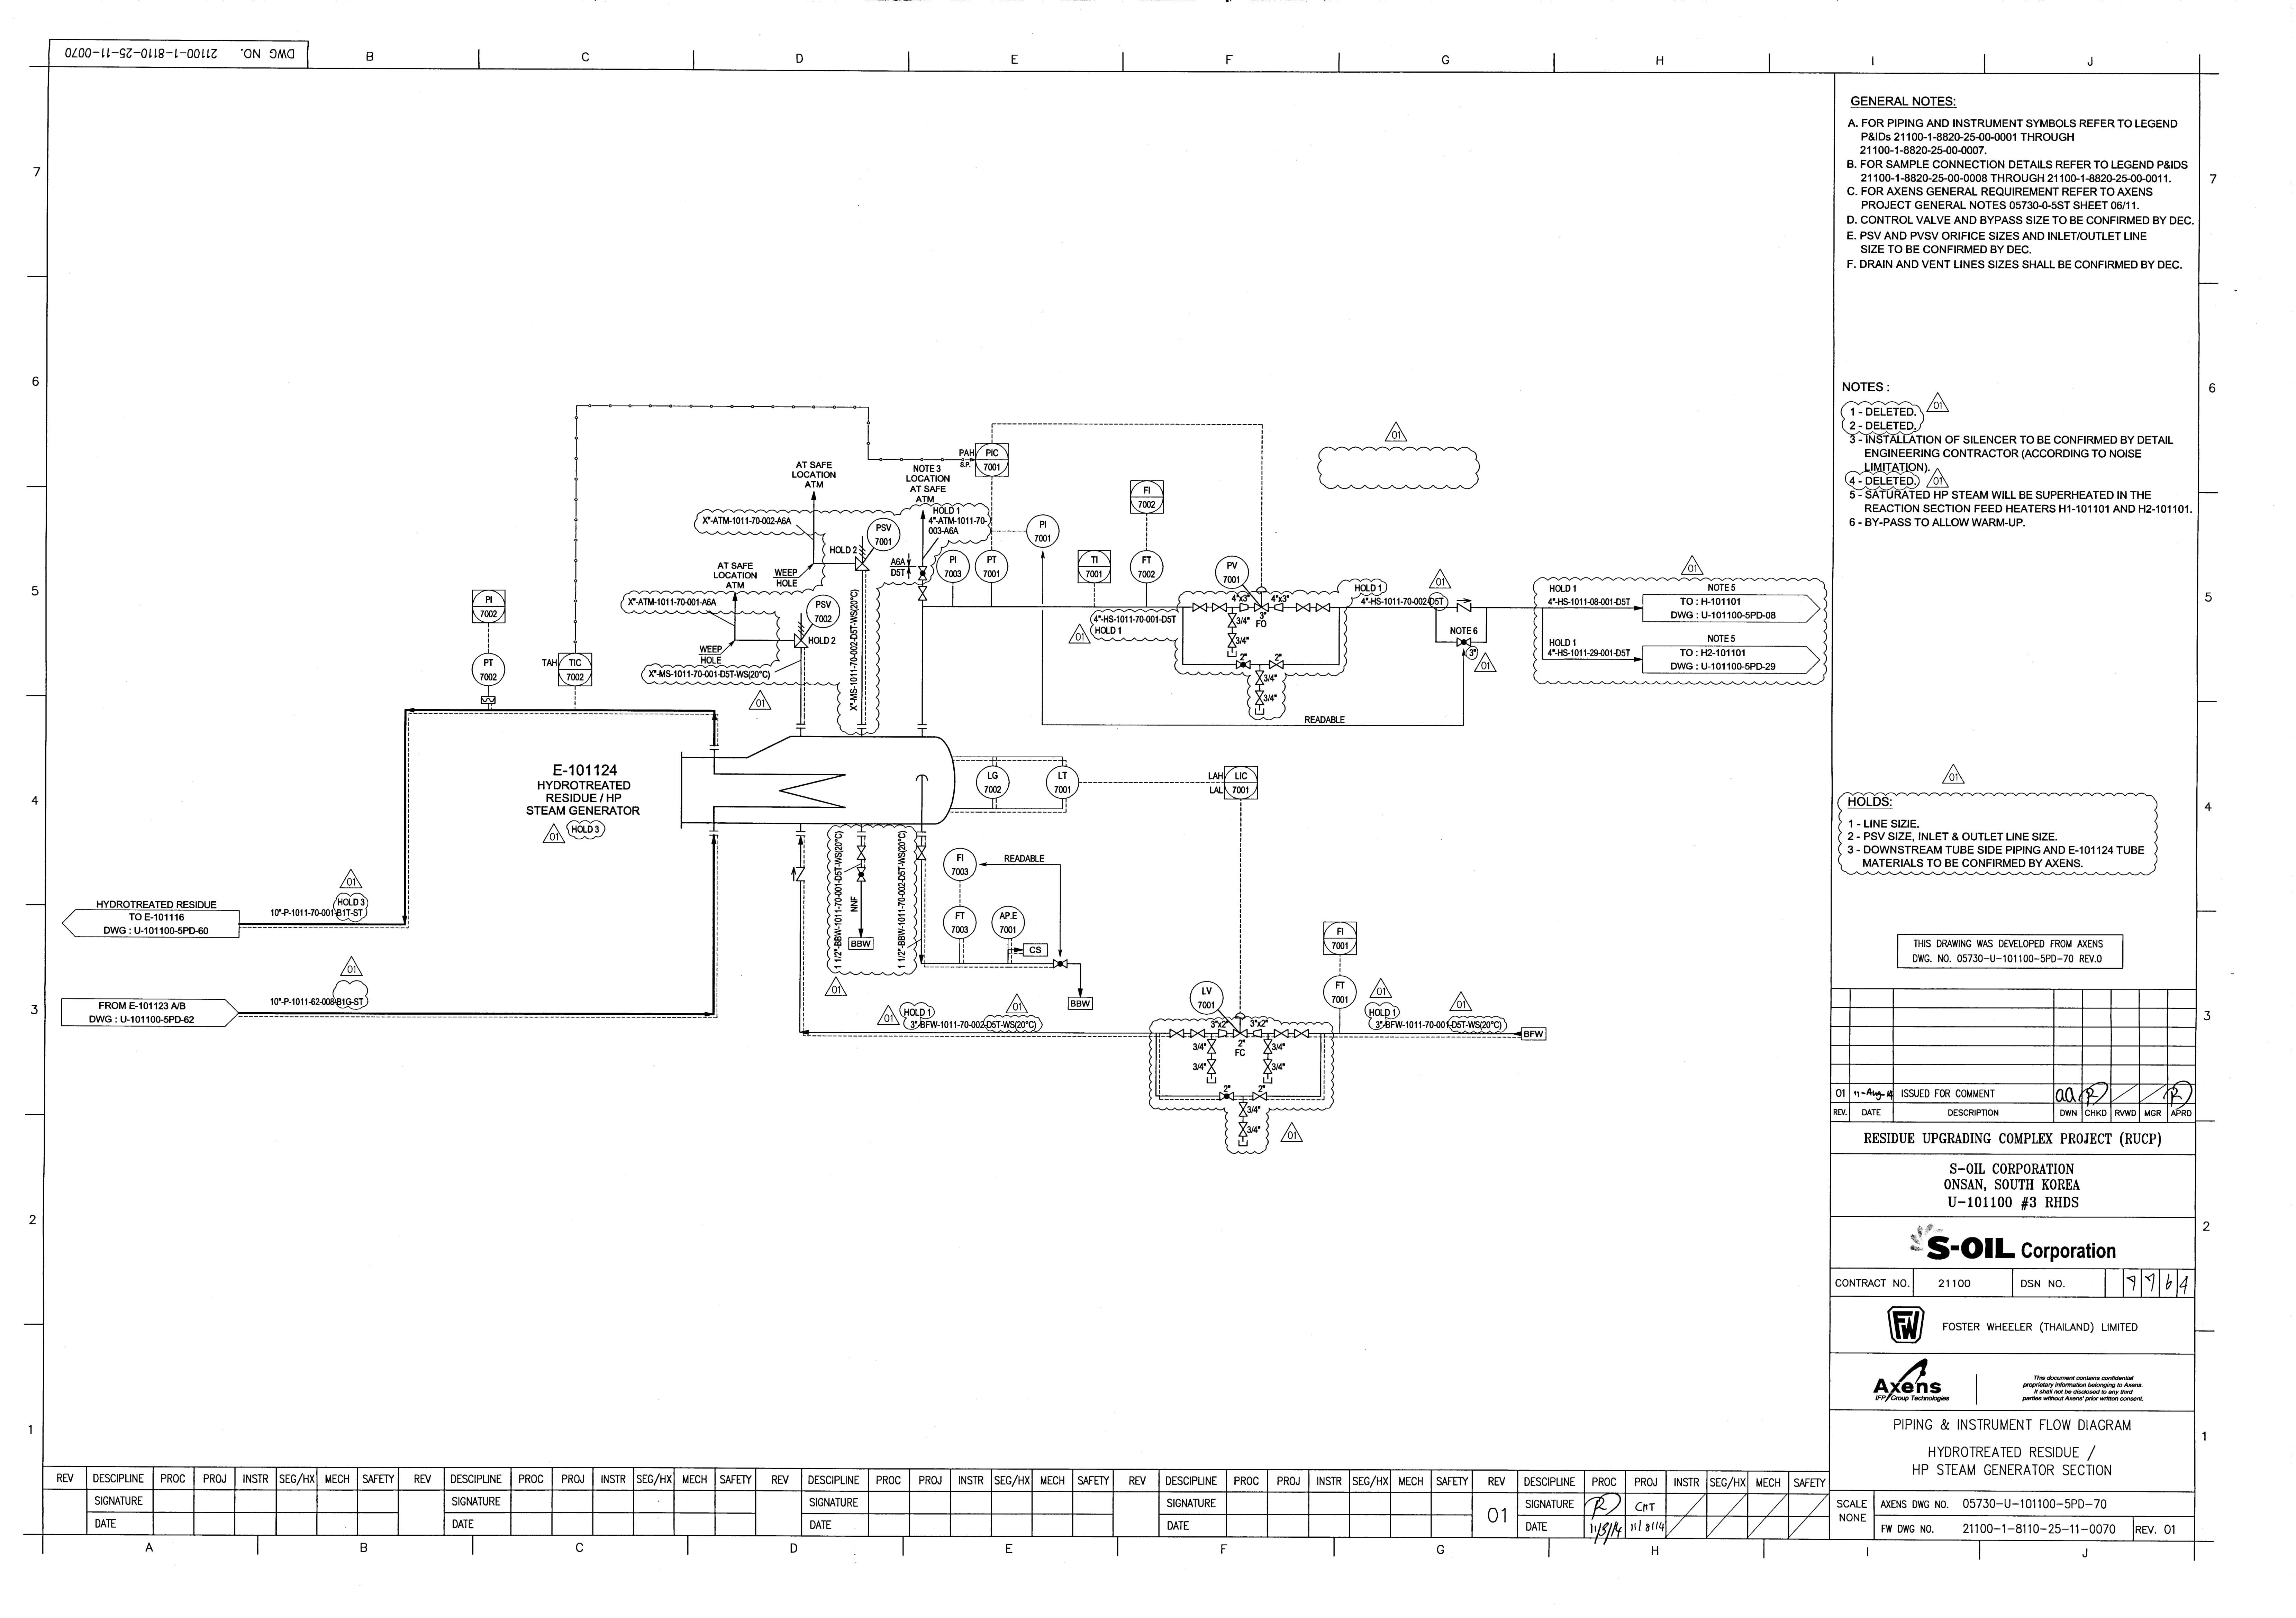NAS: (806, 559, 818, 571), (806, 531, 820, 541), (816, 531, 827, 543), (872, 508, 886, 517), (809, 489, 818, 501)
butterfly0: (1455, 636, 1473, 648), (1053, 958, 1068, 968), (1219, 1091, 1235, 1101), (1235, 660, 1250, 669)
butterfly90: (918, 564, 928, 583), (856, 867, 867, 883)
reduce0: (1217, 1028, 1228, 1038), (1238, 602, 1249, 613)
reduce180: (1273, 602, 1285, 613), (1252, 1028, 1263, 1038)
valvecontrol90: (1231, 1010, 1249, 1038), (1252, 585, 1270, 613)
